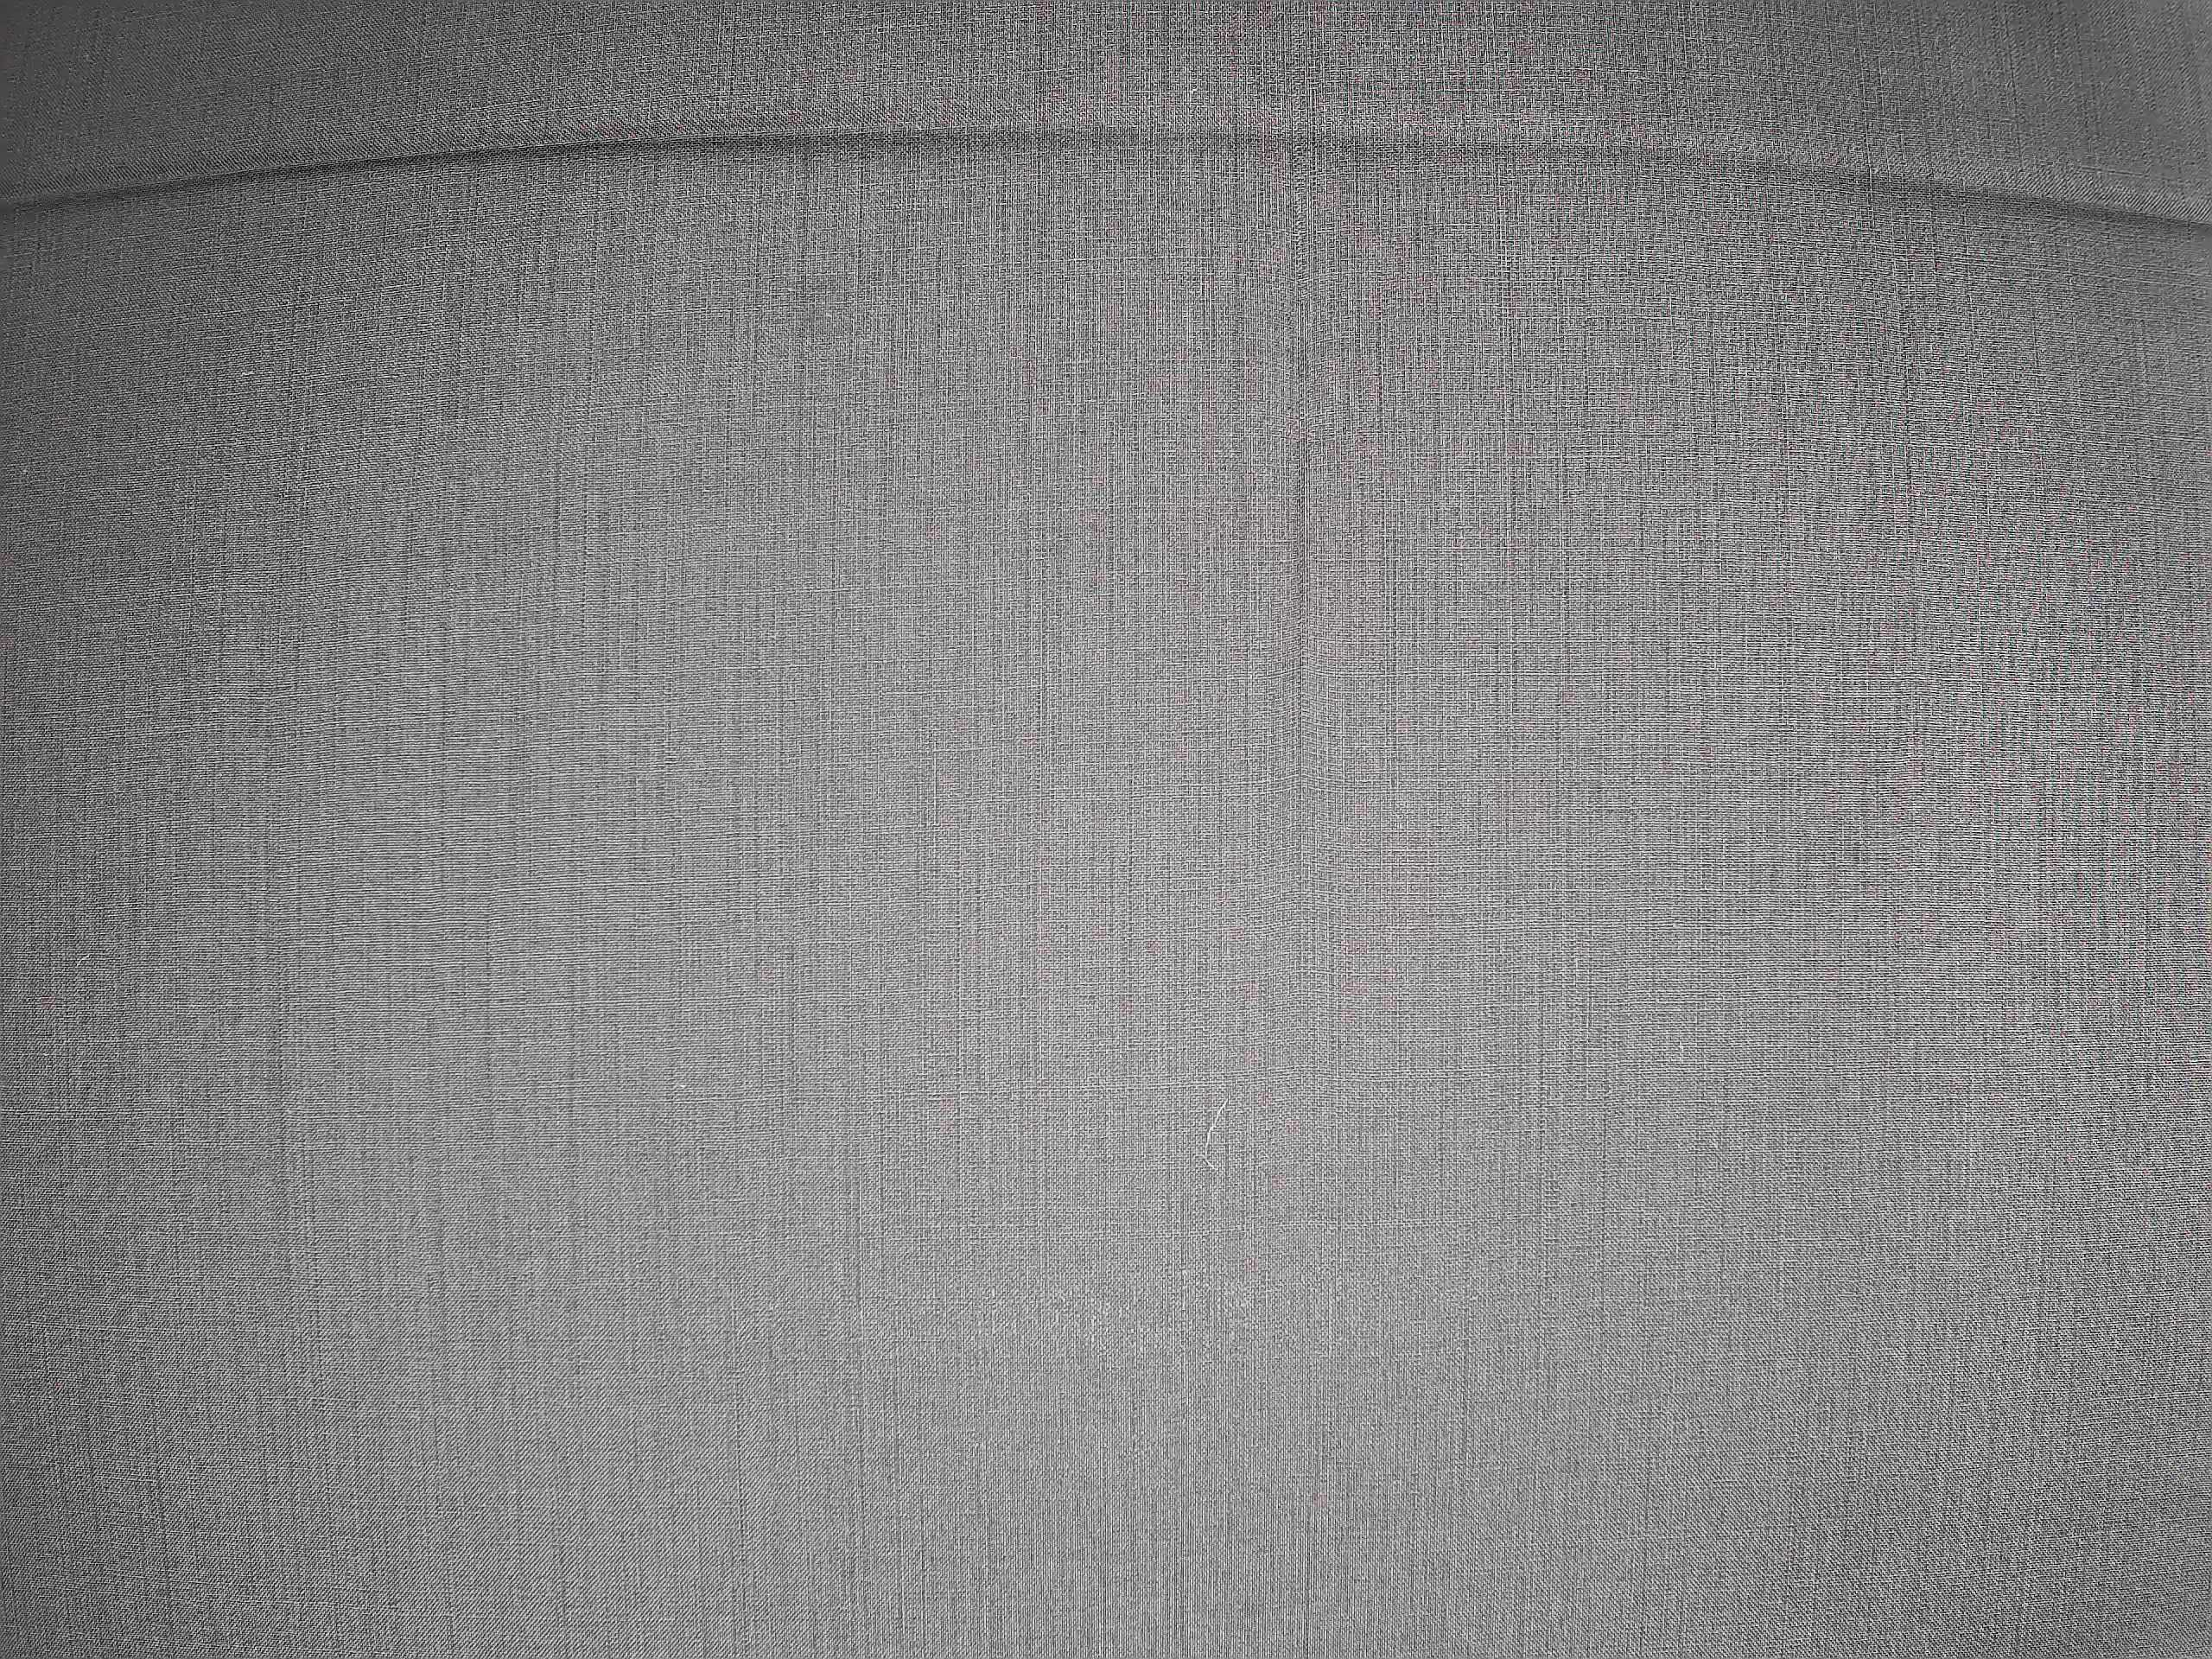hanging-warp: (1280, 7, 1317, 824)
